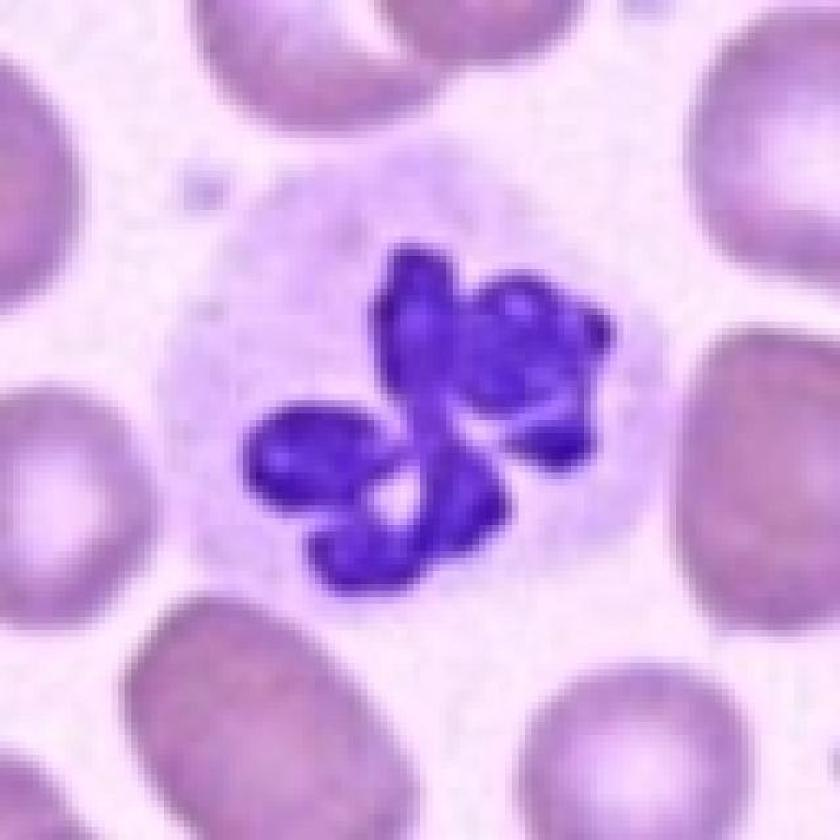neutrophil: (119, 182, 719, 722)
